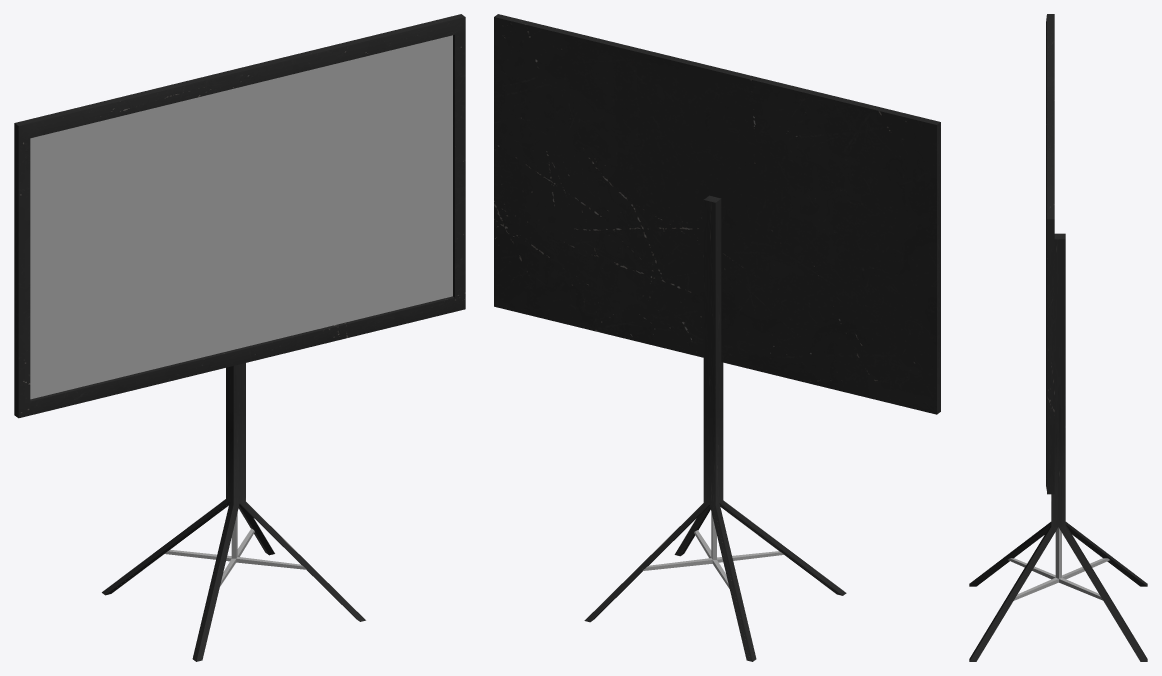
Rendered from F_Pin_Board.fbx.
3 renders of one model, left to right at view 1: azimuth 30°, elevation 25°; view 2: azimuth 150°, elevation 25°; view 3: azimuth 270°, elevation 25°, orthographic. The views are drawn at different scales.
Parts seen in each view (by area): view 1: pCube1, polySurface3, polySurface4; view 2: pCube1, polySurface3, polySurface4; view 3: polySurface3, pCube1, polySurface4.
Boxes of the visible parts, x1,y1,x2,y2 form: pCube1: [14, 14, 465, 418]; polySurface3: [102, 363, 365, 661]; polySurface4: [164, 513, 306, 586]; pCube1: [494, 14, 940, 414]; polySurface3: [584, 195, 846, 661]; polySurface4: [643, 512, 784, 588]; polySurface3: [969, 233, 1147, 661]; pCube1: [1046, 14, 1054, 494]; polySurface4: [1008, 527, 1109, 600].
Bounding box in the file's own units: 1.69 × 1.95 × 0.6215.
